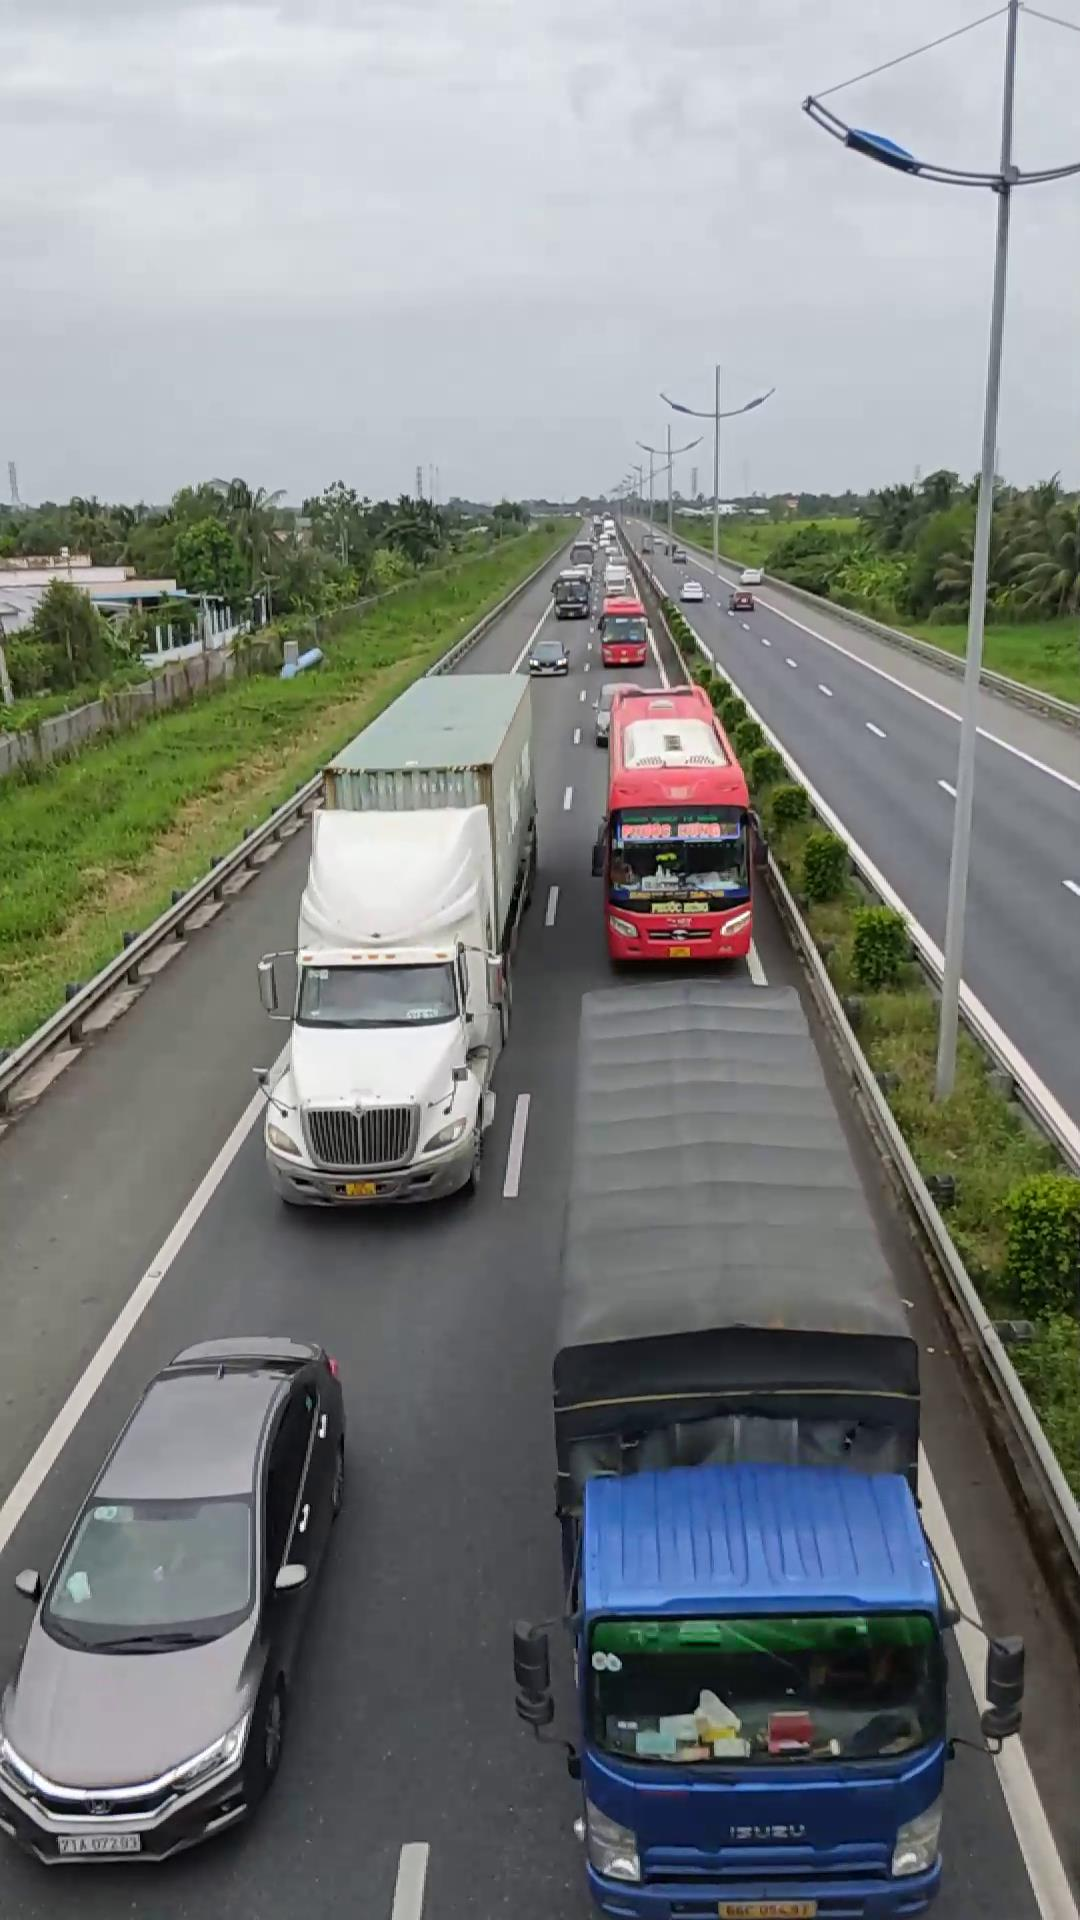bus: (591, 678, 761, 966)
car: (1, 1332, 349, 1860)
container: (258, 661, 535, 1208)
truck: (544, 992, 955, 1909)
